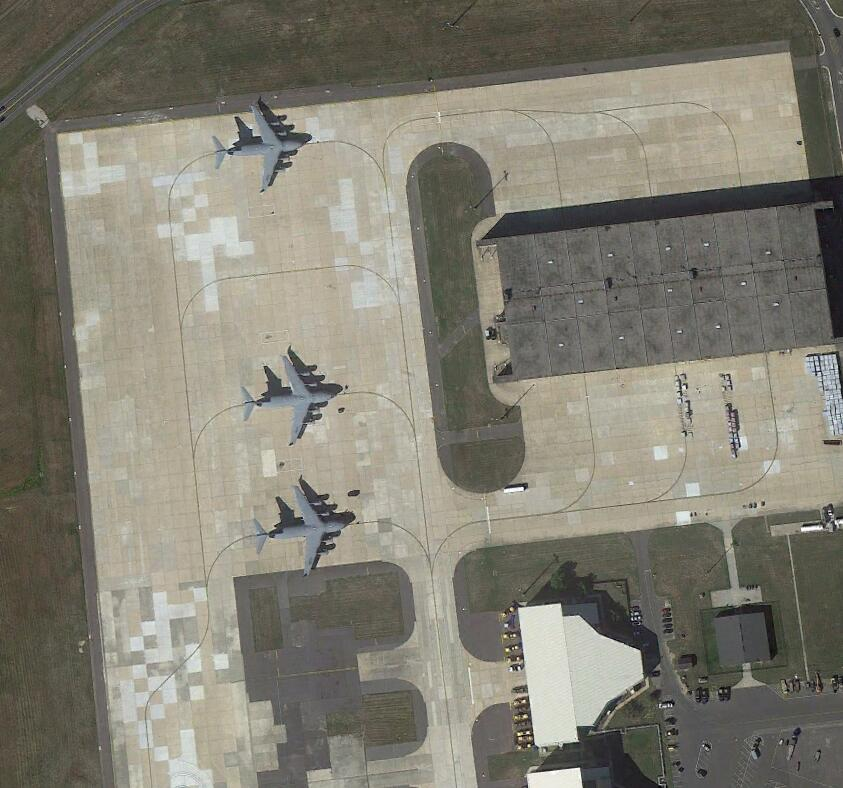A3: (253, 485, 353, 579), (208, 103, 312, 193), (240, 353, 339, 447)
